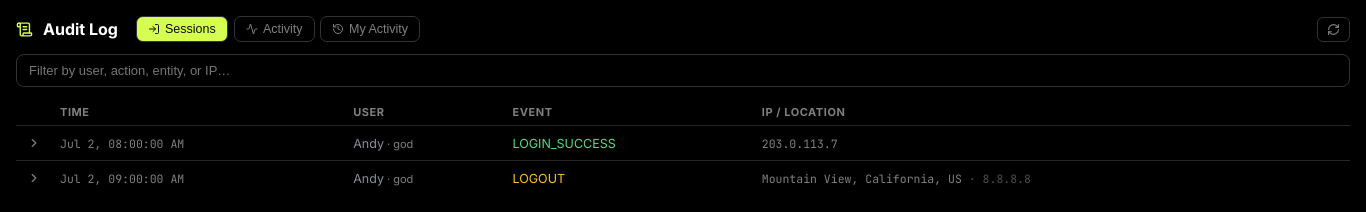
Test: AuditLogWidget "My Activity" tab (plan 038) › search filters activity entries by app label and action
Expected: the text "LOGIN_SUCCESS" is shown, [504,126,754,160]
Click the tab "My Activity" at (370, 29), box [320,16,420,42]
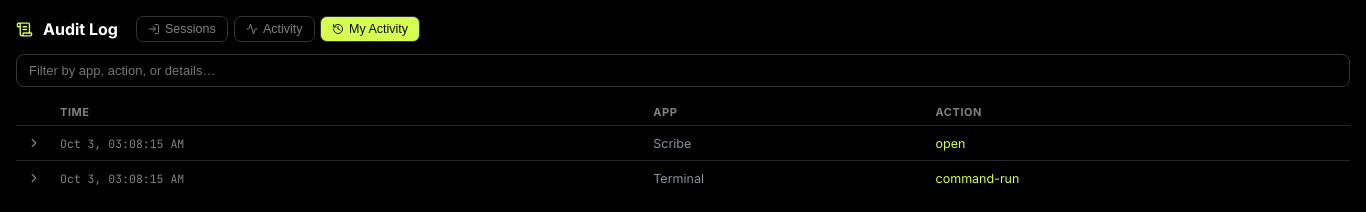
Result: the text "Scribe" is shown at [645,126,928,160]
Type "scribe" into the field with placeholder "Filter by app, action, or details…" at (683, 70), box [16,54,1350,87]
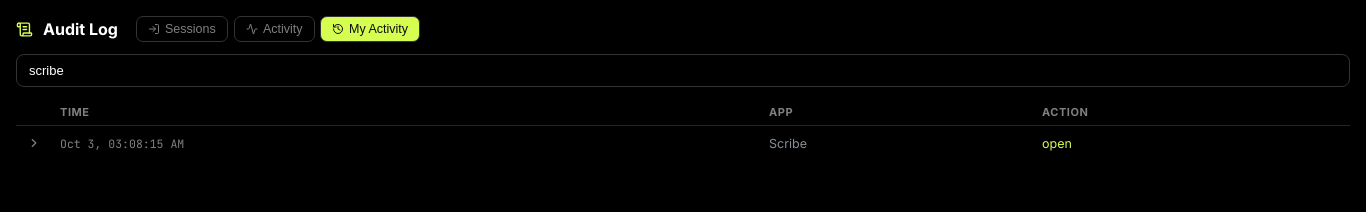
Result: the text "Scribe" is shown at [761,126,1034,160]
Result: the text "Terminal" is gone
